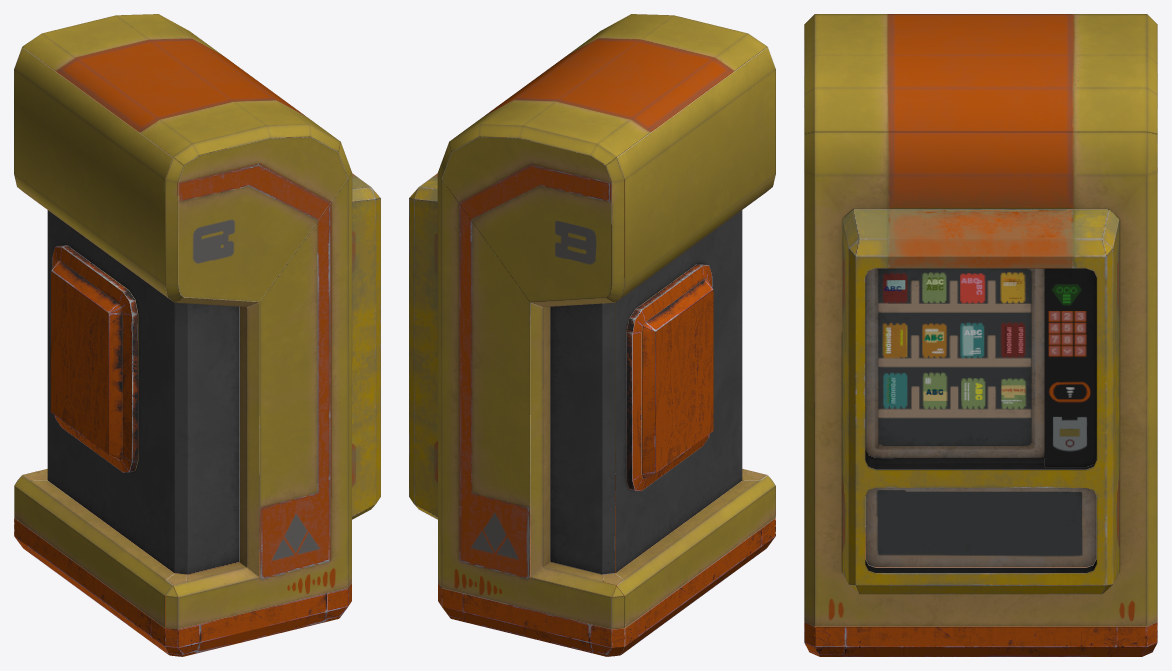
The model's file is VendingMachine yellow-orange.fbx.
3 views of the same model, side by side, from view 1: azimuth 30°, elevation 25°; view 2: azimuth 150°, elevation 25°; view 3: azimuth 270°, elevation 25° (orthographic). The views are drawn at different scales.
Parts seen in each view (by area): view 1: VendingMachineyo_low; view 2: VendingMachineyo_low; view 3: VendingMachineyo_low.
Part boxes in pixels (x1=…): VendingMachineyo_low: x1=14, y1=14, x2=380, y2=656; VendingMachineyo_low: x1=409, y1=14, x2=775, y2=656; VendingMachineyo_low: x1=804, y1=14, x2=1157, y2=656.
Size of the model in its own units: 116 by 241 by 138.
Materials: 1 (1 with a texture image).
